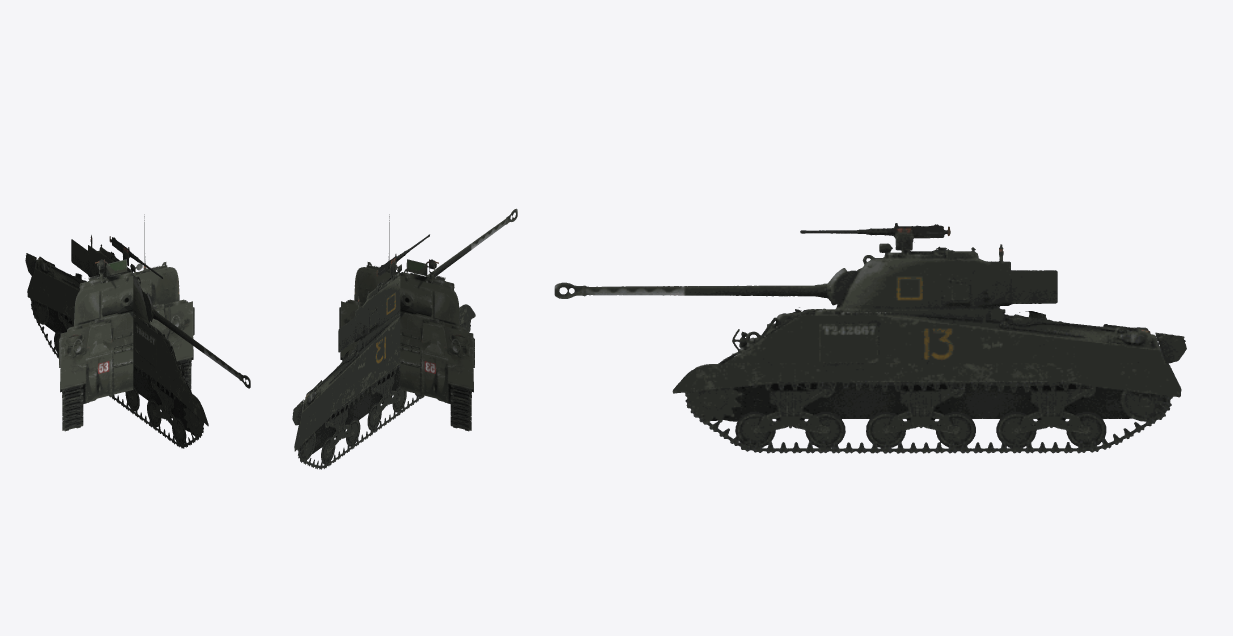
The model's file is sherman_firefly_barking_dogo_v3_pbr_bb.glb.
3 views of the same model, side by side, from view 1: azimuth 30°, elevation 25°; view 2: azimuth 150°, elevation 25°; view 3: azimuth 270°, elevation 25° (orthographic). The views are drawn at different scales.
Visible parts, largest first — view 1: sherman_firefly_barking_dogo_v3_pbr_bb; view 2: sherman_firefly_barking_dogo_v3_pbr_bb; view 3: sherman_firefly_barking_dogo_v3_pbr_bb.
Boxes of the visible parts, x1=… form: sherman_firefly_barking_dogo_v3_pbr_bb: x1=25, y1=214, x2=250, y2=448; sherman_firefly_barking_dogo_v3_pbr_bb: x1=292, y1=208, x2=517, y2=469; sherman_firefly_barking_dogo_v3_pbr_bb: x1=554, y1=223, x2=1186, y2=453.
Bounding box in the file's own units: 4.21 × 8.25 × 8.25.
1 material, 1 textured.
